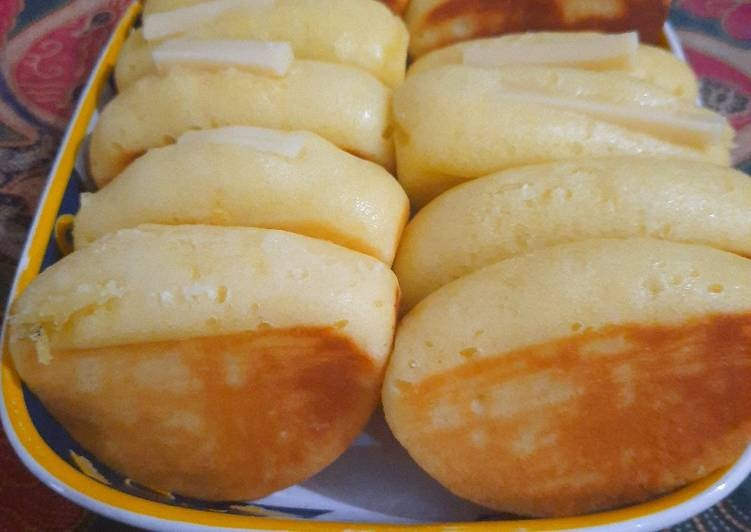pukis: (15, 204, 383, 510), (399, 204, 747, 519)
